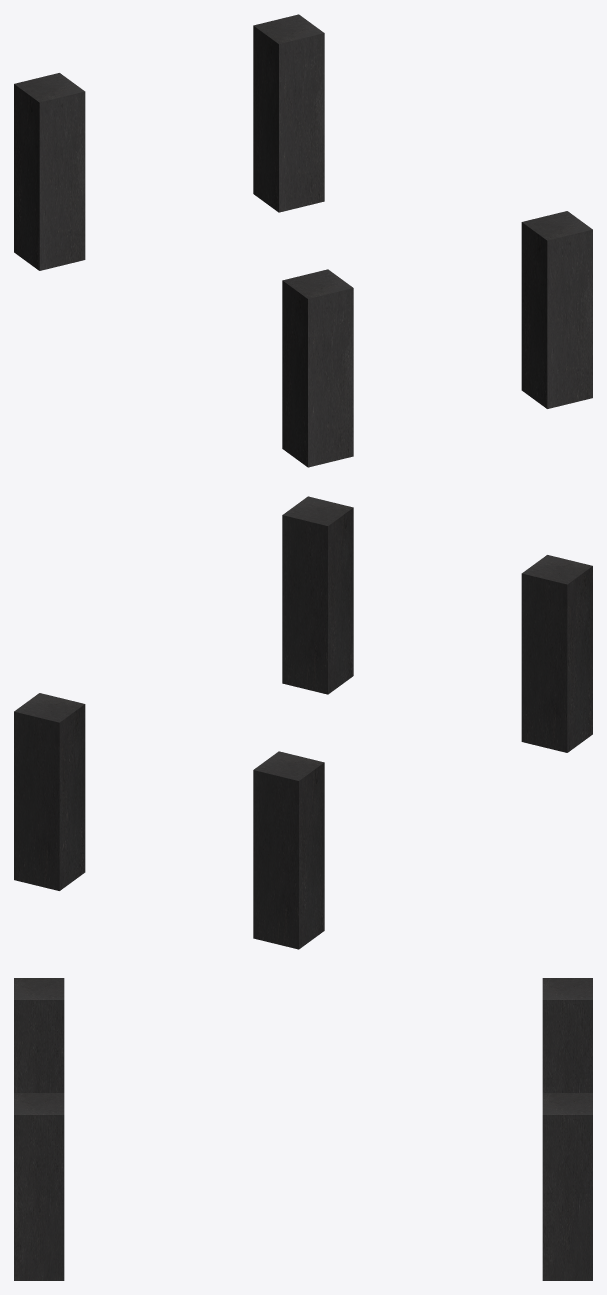
Rendered from zenoPatasIndustrial.glb.
3 renders of one model, top to bottom at view 1: azimuth 30°, elevation 25°; view 2: azimuth 150°, elevation 25°; view 3: azimuth 270°, elevation 25°, orthographic.
Visible parts, largest first — view 1: Cube.004, Cube.007, Cube.005, Cube.006; view 2: Cube.005, Cube.006, Cube.004, Cube.007; view 3: Cube.005, Cube.007, Cube.004, Cube.006.
Part boxes in pixels (x1,y1,x2,y2): Cube.004: (282,269,353,467); Cube.007: (253,14,324,212); Cube.005: (521,211,592,408); Cube.006: (14,73,85,270); Cube.005: (282,496,353,694); Cube.006: (253,751,324,949); Cube.004: (521,555,592,752); Cube.007: (14,693,85,890); Cube.005: (14,1093,64,1280); Cube.007: (542,1093,592,1280); Cube.004: (14,978,64,1092); Cube.006: (542,978,592,1092).
Bounding box in the file's own units: 1.88 × 1.06 × 3.37.
4 materials, 4 textured.
